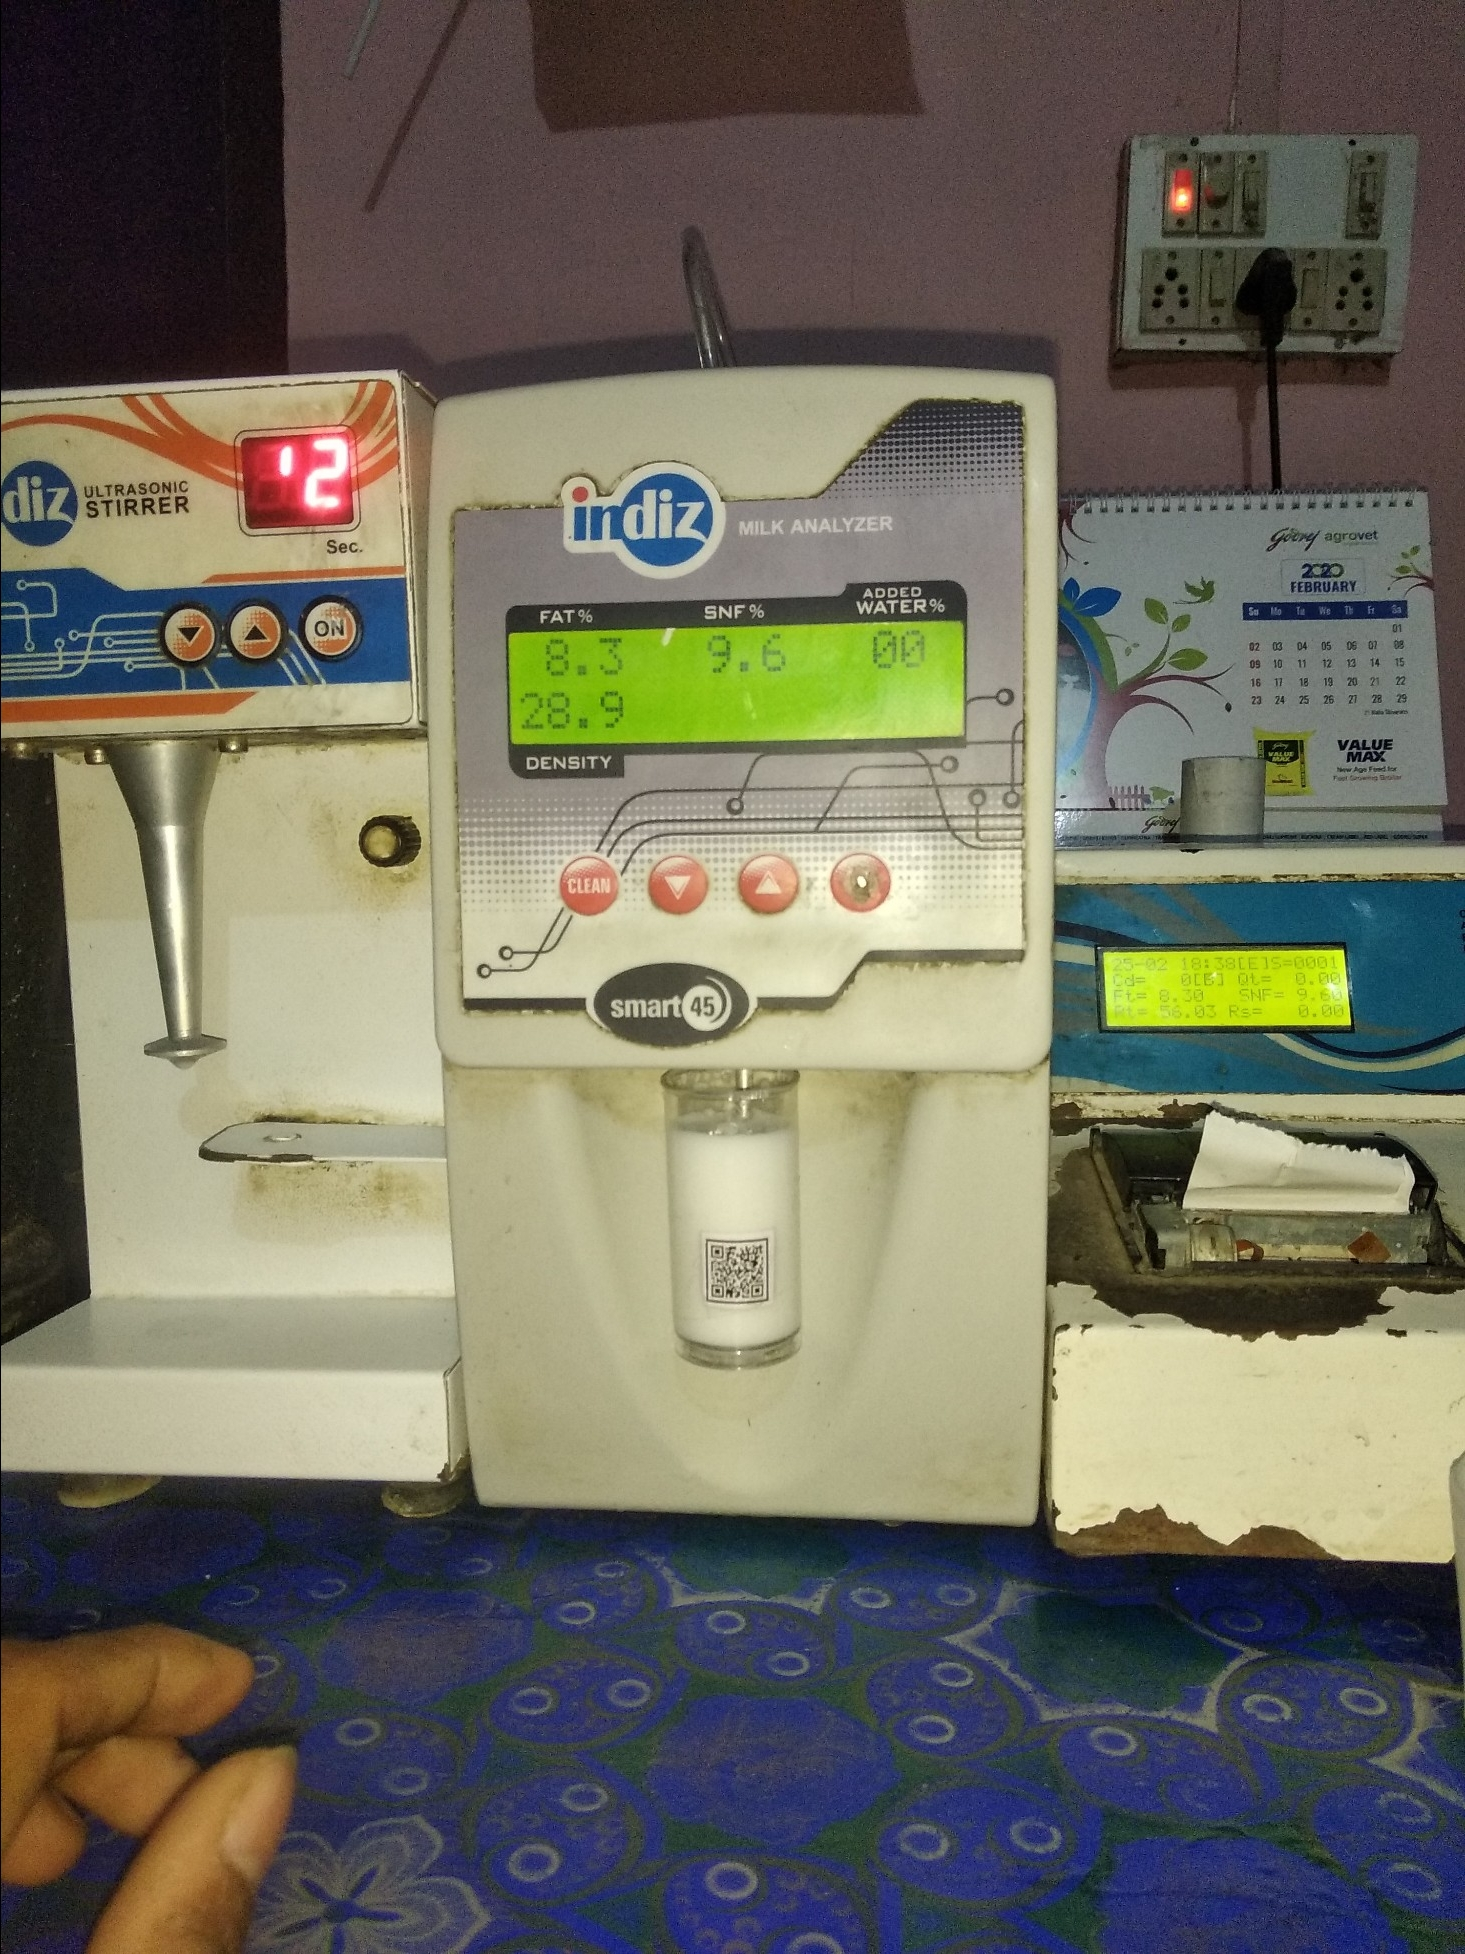lcd: (500, 622, 985, 762)
qr: (679, 1228, 823, 1334)
